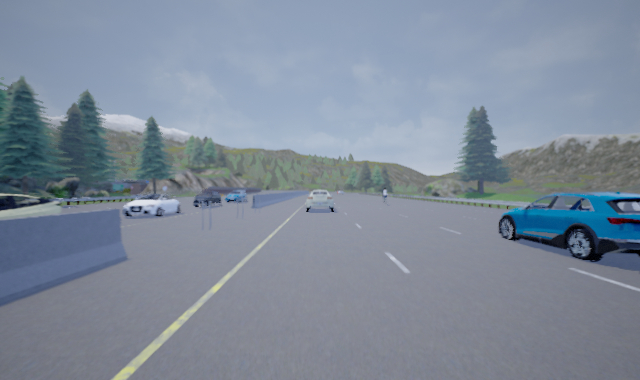bike: (383, 186, 393, 206)
vehicle: (496, 190, 639, 262), (1, 193, 65, 251), (118, 193, 181, 218), (305, 189, 334, 212), (192, 189, 223, 207), (224, 189, 247, 203)
